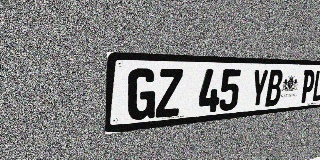4: (198, 69, 222, 114)
5: (219, 69, 241, 111)
B: (265, 70, 284, 107)
G: (127, 68, 157, 121)
L: (311, 70, 320, 102)
P: (300, 70, 316, 103)
Y: (249, 69, 269, 108)
Z: (155, 69, 183, 118)
